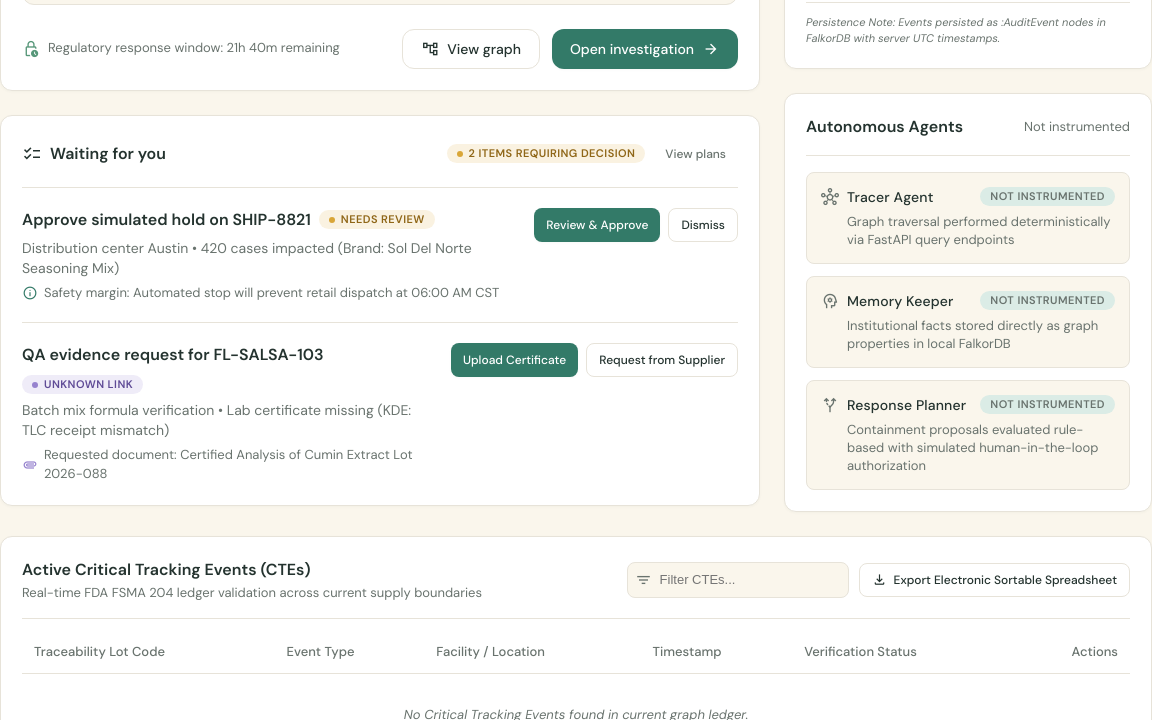
Scenario: OverviewDashboard Component › opens Supplier Request simulation modal cleanly
(page scrolled)
Click the button "Request from Supplier". click: [662, 360]
box: [586, 343, 738, 377]
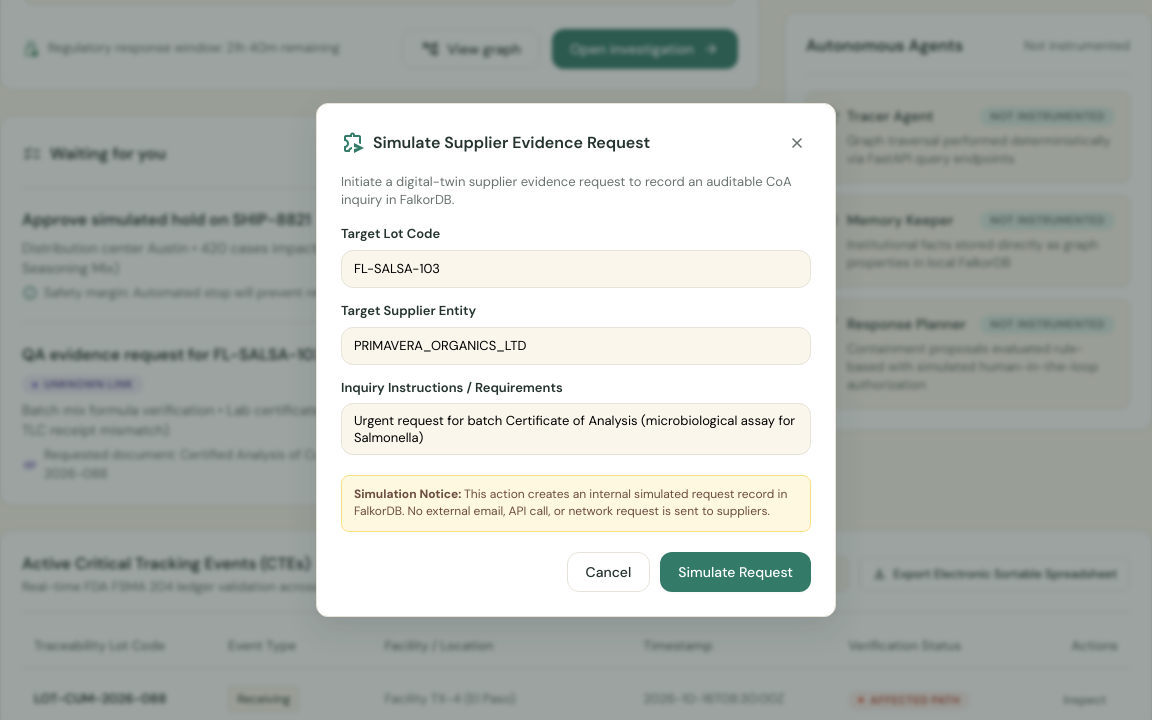
Now the dialog is shown
Now the heading "Simulate Supplier Evidence Request" is shown, box [373, 131, 650, 155]
